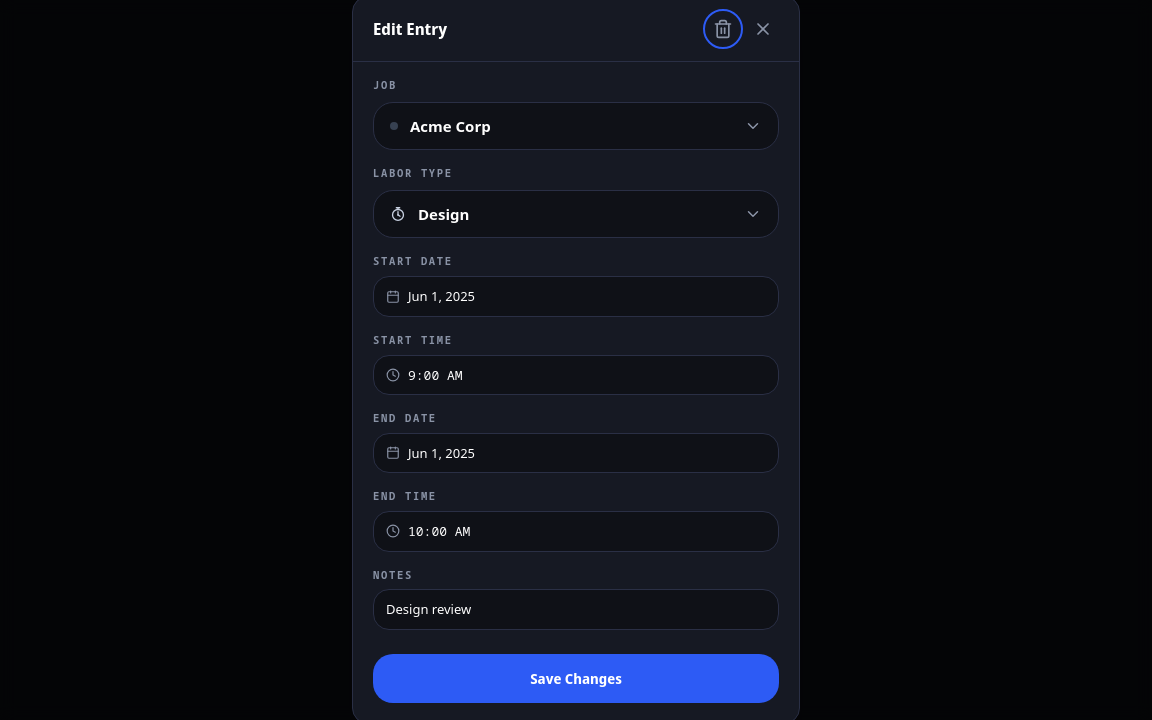
EditEntryModal — delete flow › delete button shows ConfirmModal with "Delete this time entry?"
The width and height of the screenshot is (1152, 720).
Click the button named "delete entry": (723, 29) [707,13,739,45]
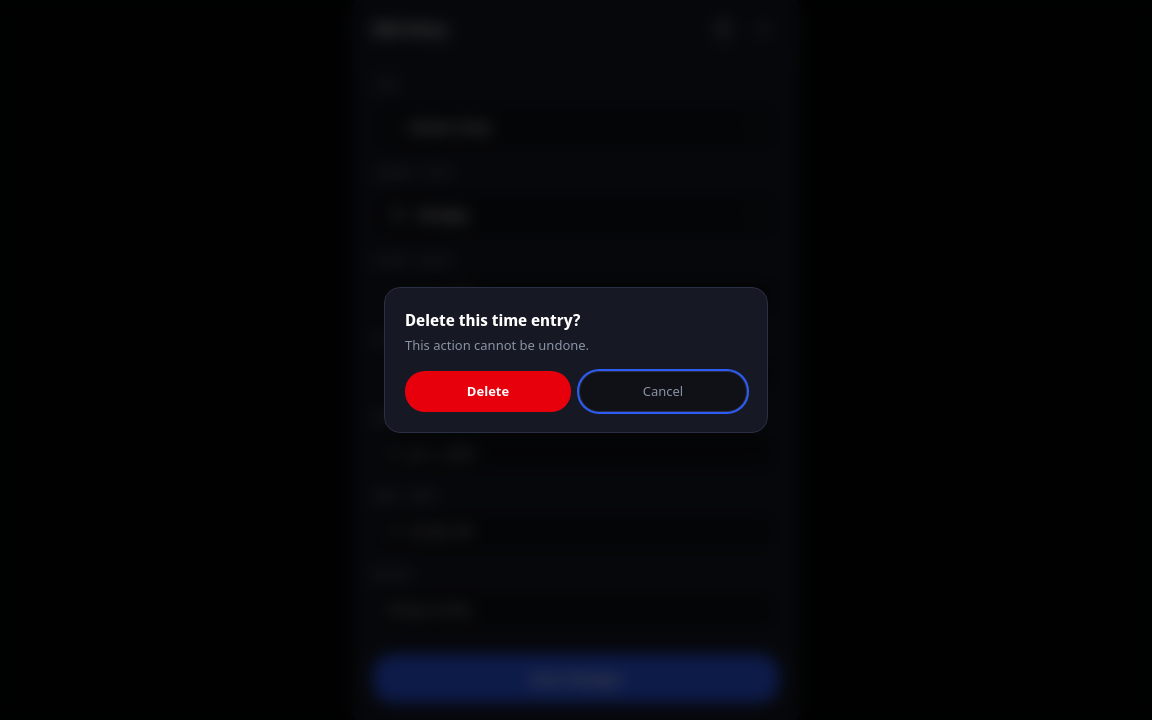
Check: the text "Delete this time entry?" is shown, box [405,309,580,331]
